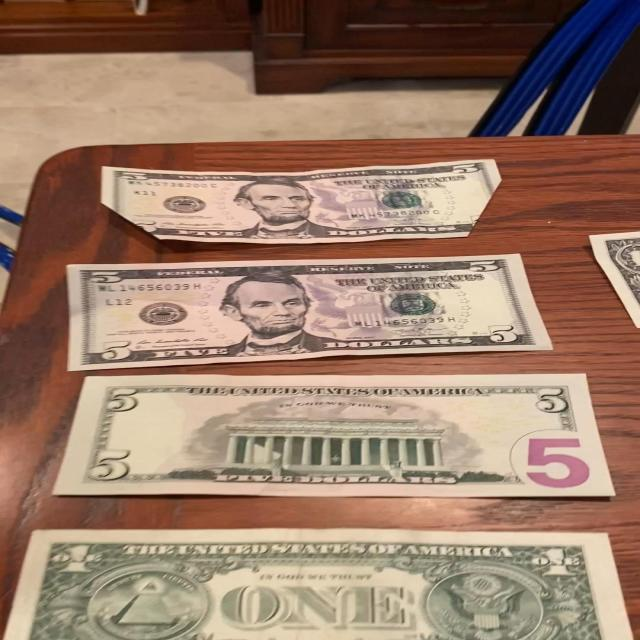1-Back: (0, 528, 638, 640)
5-Back: (52, 372, 618, 498)
5-Front: (61, 252, 555, 376), (100, 158, 510, 244)
